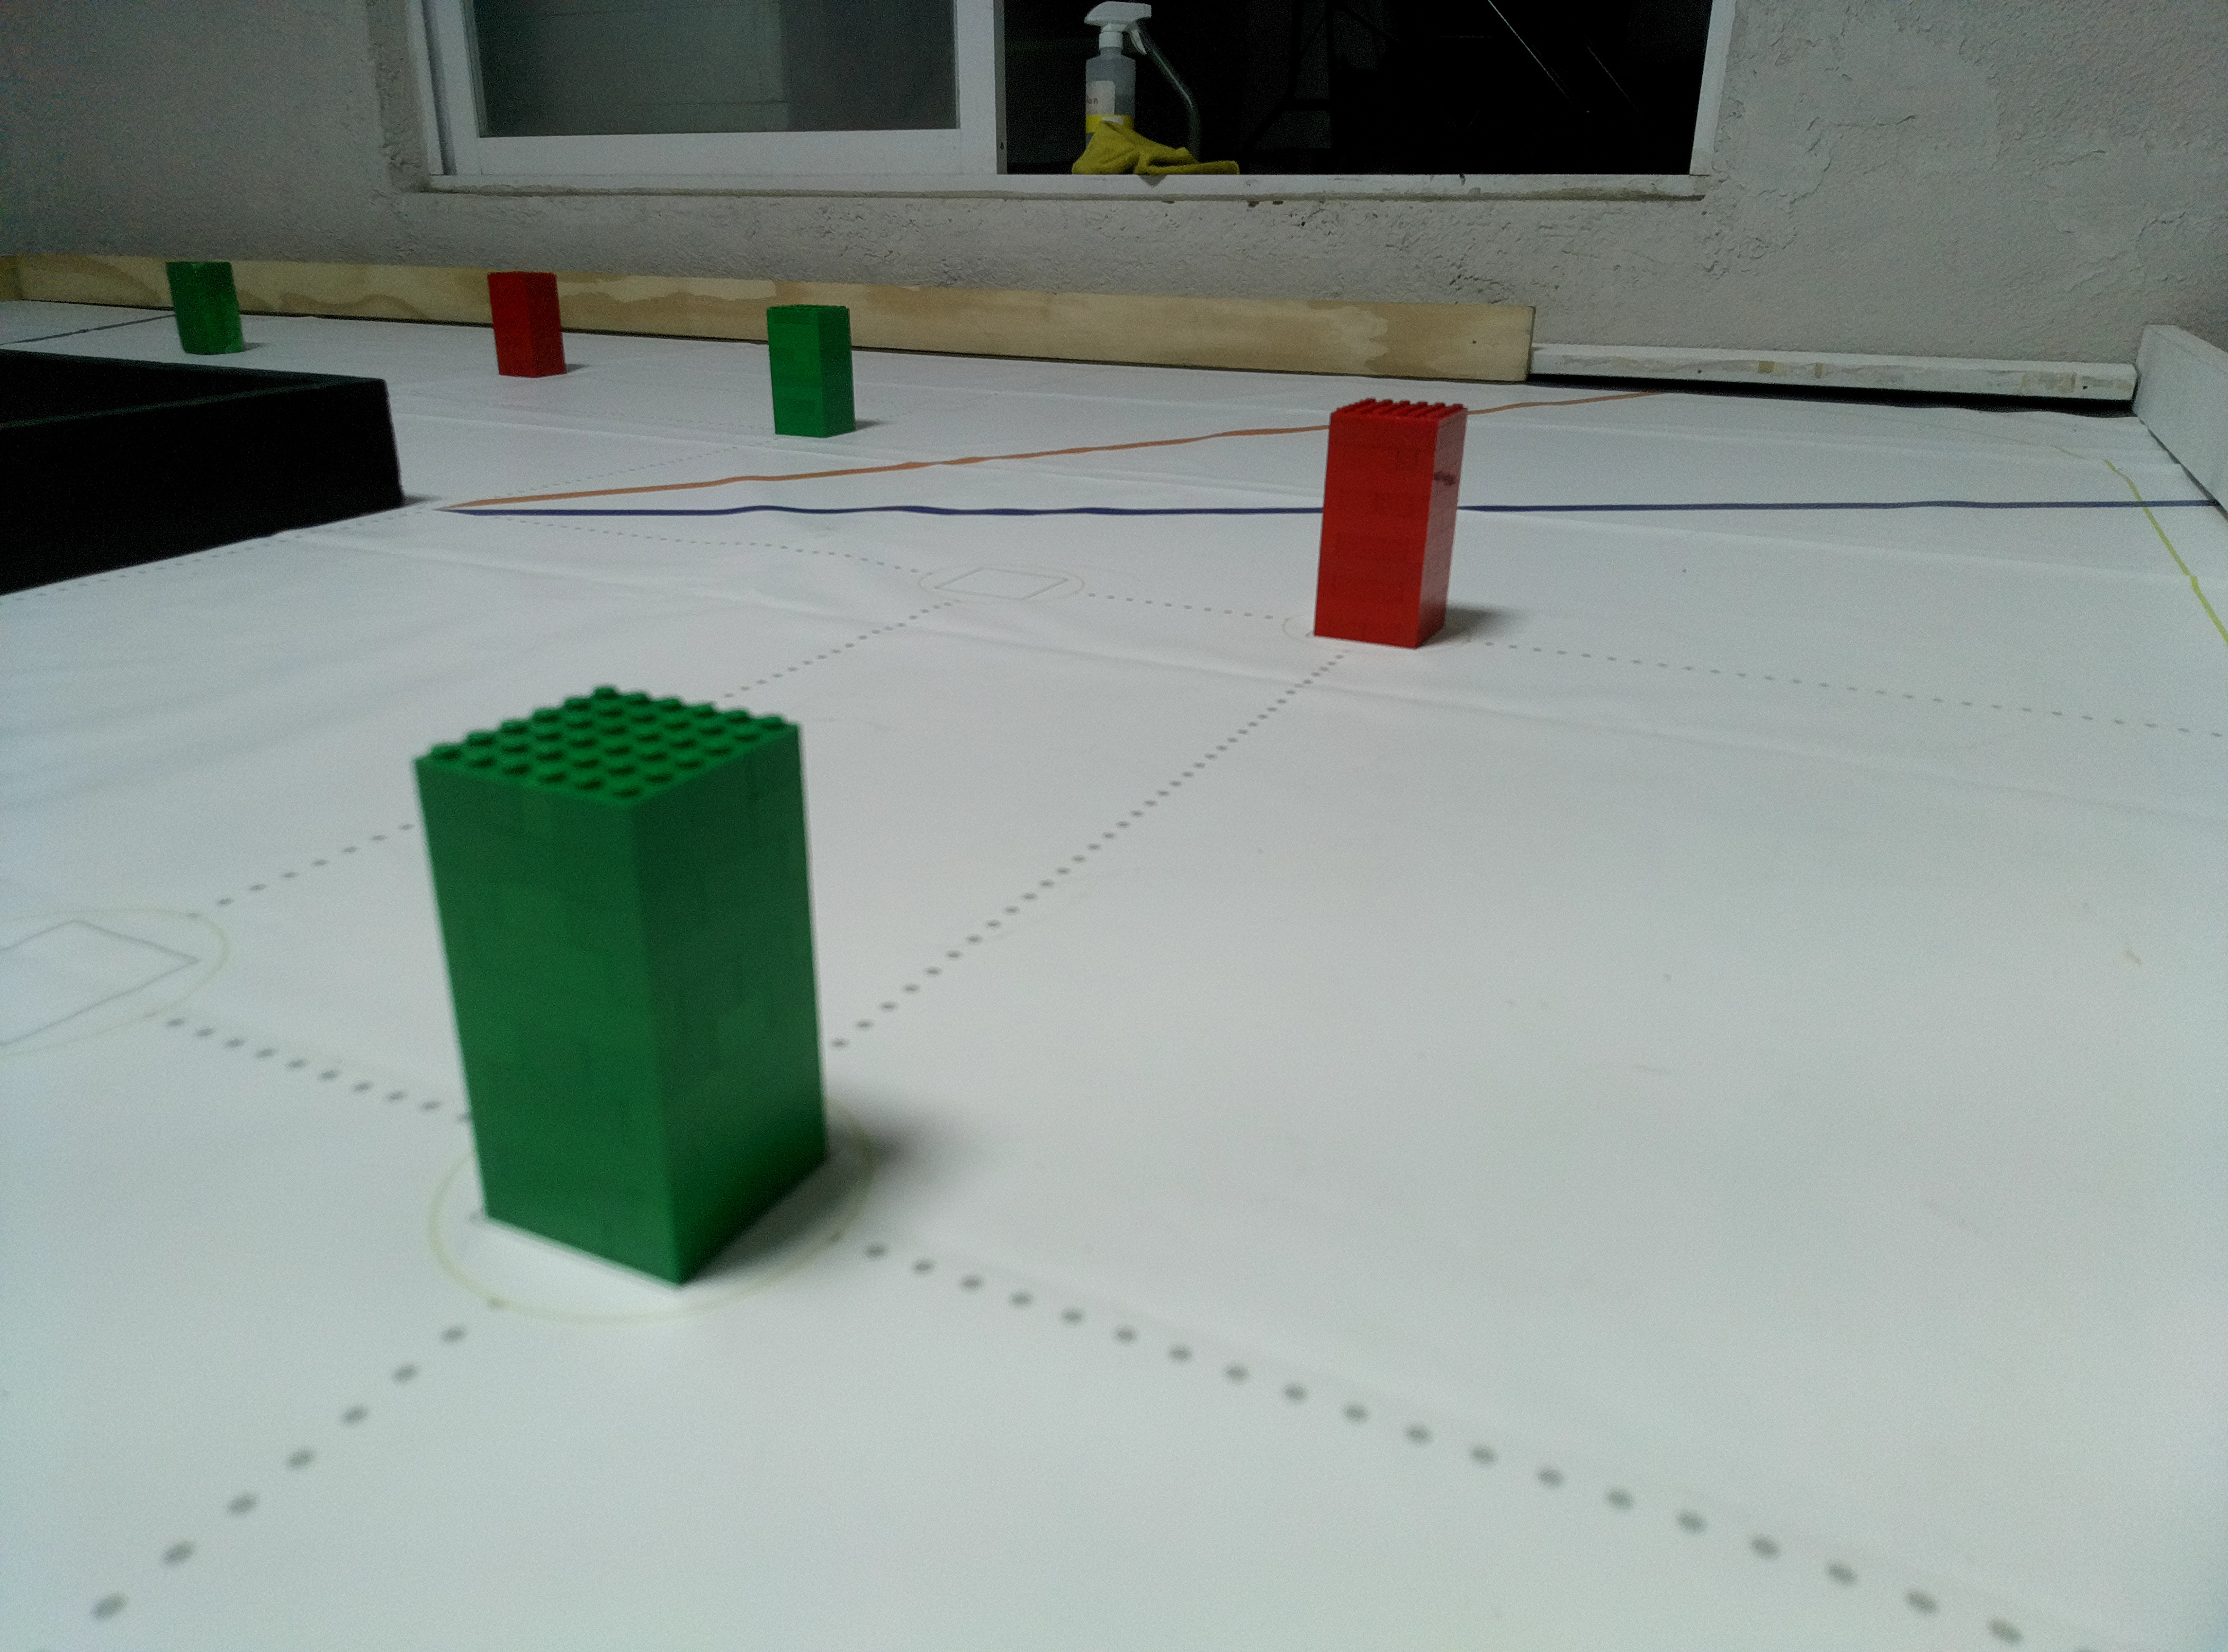greenbox: (410, 675, 836, 1298), (765, 302, 857, 441), (163, 259, 250, 359)
redbox: (1312, 396, 1475, 652), (484, 267, 571, 380)
